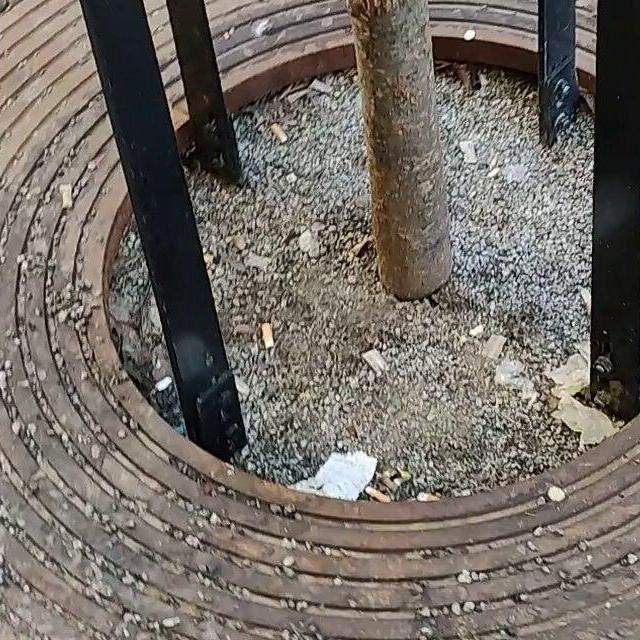Cigarette Butt: (256, 321, 278, 353), (56, 179, 74, 211), (268, 121, 293, 144), (365, 487, 390, 502)
